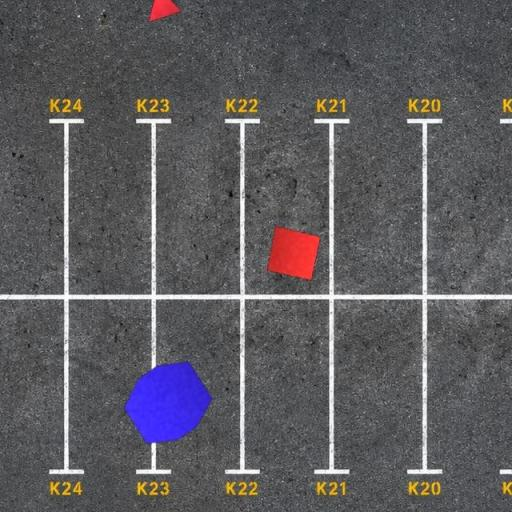RED_SQUARE: (266, 226, 322, 280)
